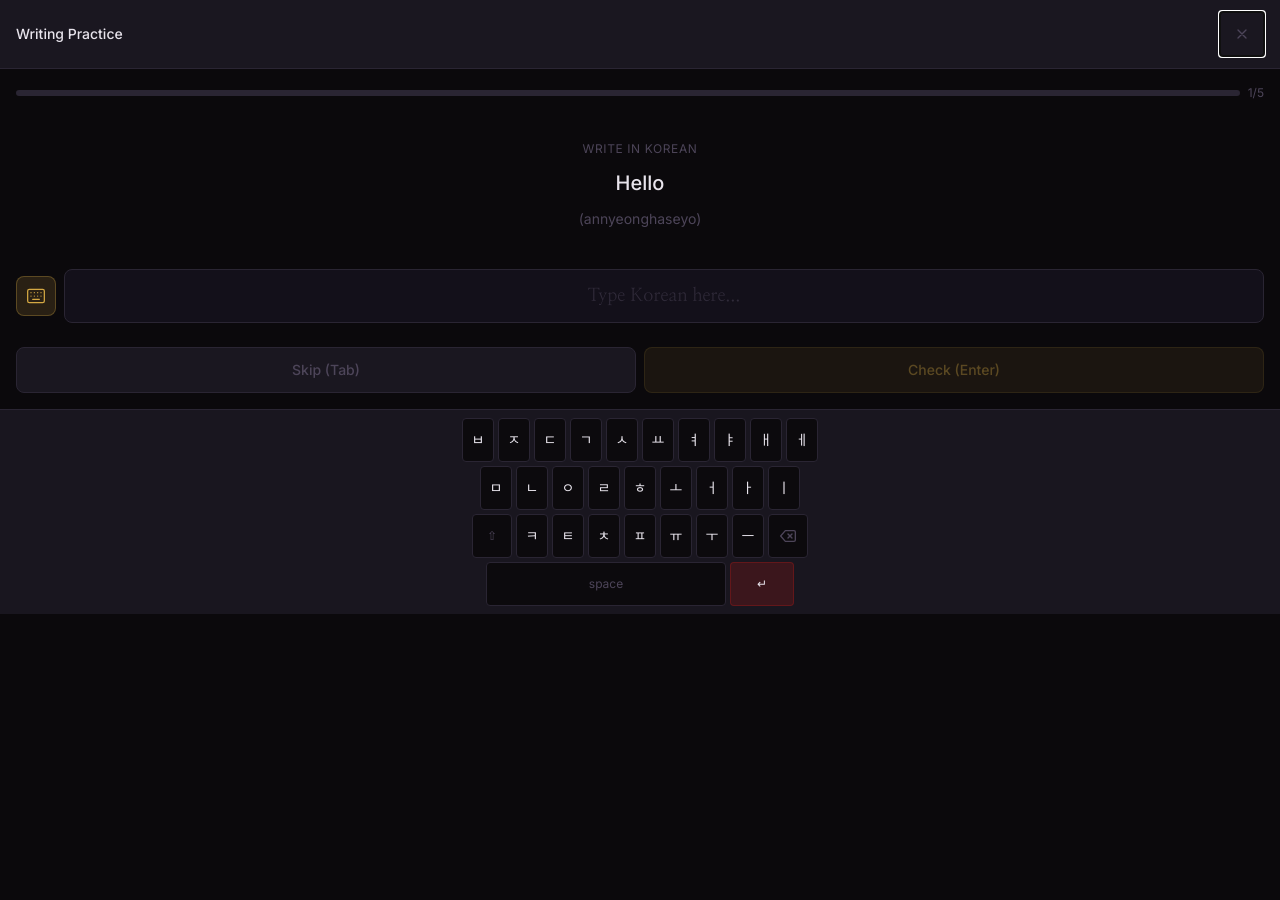
Test: WritingMode › main writing UI › enables Check when input has text
The width and height of the screenshot is (1280, 900).
In the field with placeholder "Type Korean here...": (664, 296) [64,269,1264,323], type "테스트"
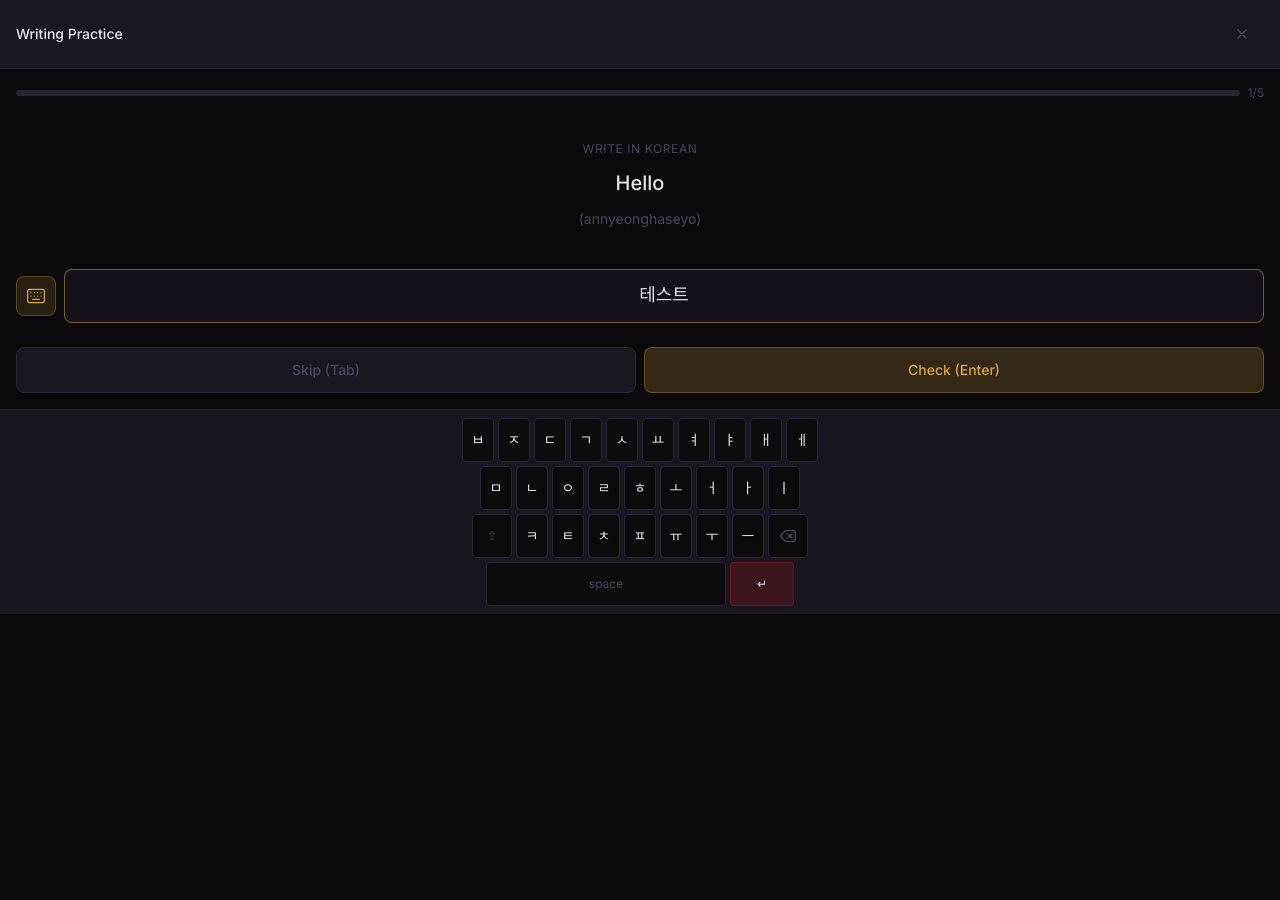
Expected: the button "Check (Enter)" is enabled, [644,347,1264,393]
